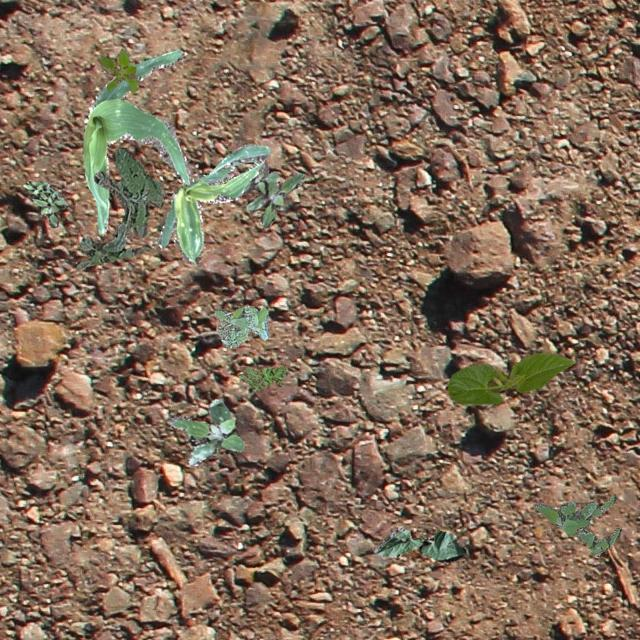crop: (82, 49, 194, 232), (157, 144, 270, 262), (446, 352, 574, 404), (372, 526, 464, 562)
weed: (74, 146, 164, 268), (534, 494, 620, 556), (168, 398, 244, 464), (242, 160, 304, 226), (214, 304, 268, 346), (22, 180, 68, 227), (98, 46, 138, 92), (238, 364, 288, 389)
